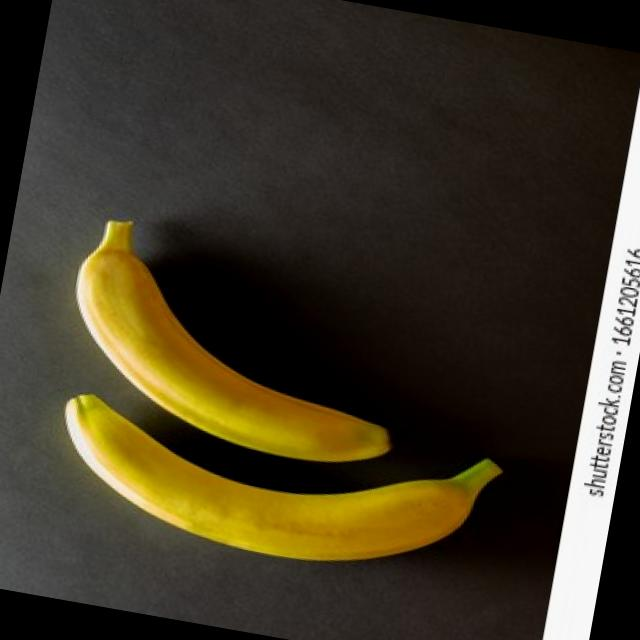banana: (39, 380, 512, 598), (48, 208, 426, 476)
